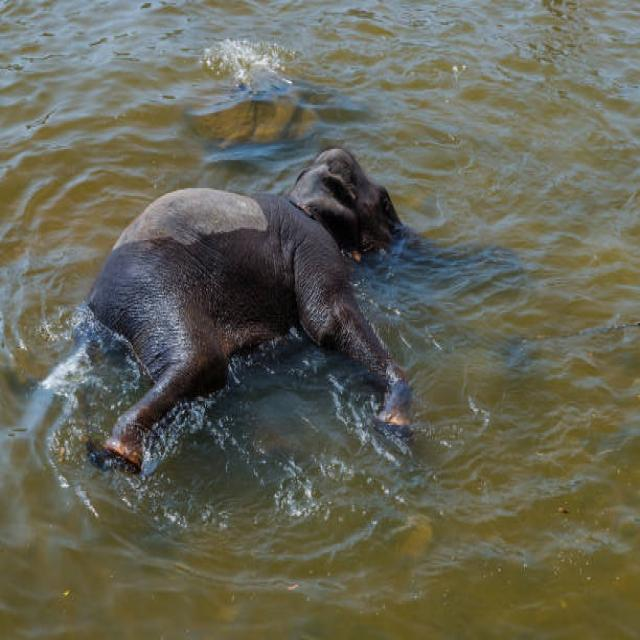Elephant: (71, 138, 426, 505)
